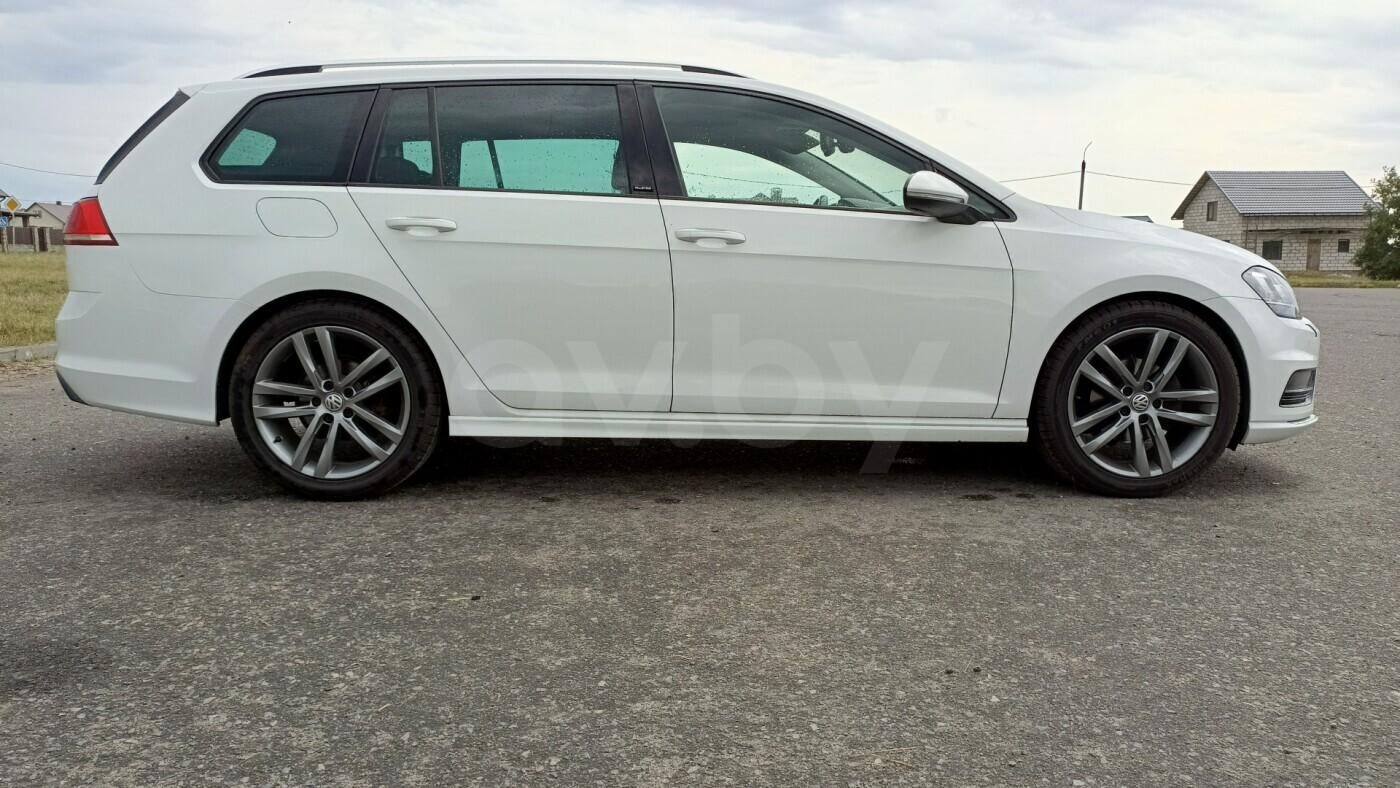Golf_2012-2017: (47, 60, 1328, 505)
